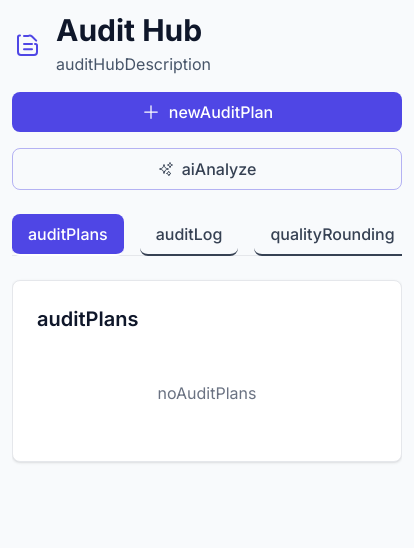
Test: Audit log loading states › shows errors rather than empty success and supports retry in the hub log
Click the button "auditLog". click: (189, 235)
box: 140,214 -> 238,256
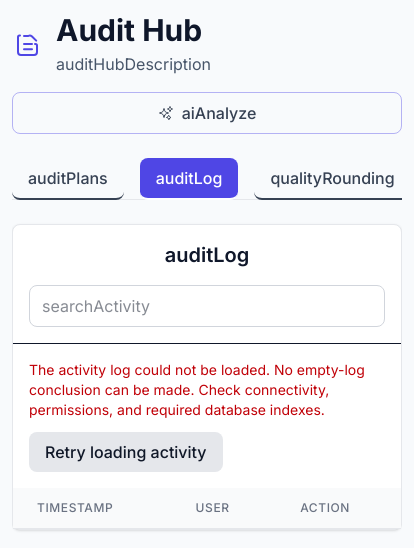
Check: the message shows "The activity log could not be loaded. No empty-log conclusion can be made. Check connectivity, permissions, and required database indexes.", box 29,361 -> 365,418
Click the button "Retry loading activity". click: (126, 452)
box: 29,432 -> 223,472
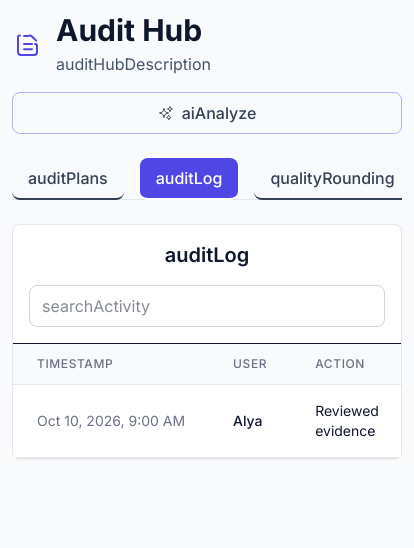
Check: the text "Reviewed evidence" is shown, box 315,401 -> 379,441
Check: the message is gone
